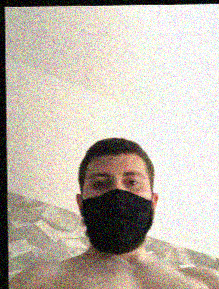with_mask: (80, 165, 154, 254)
